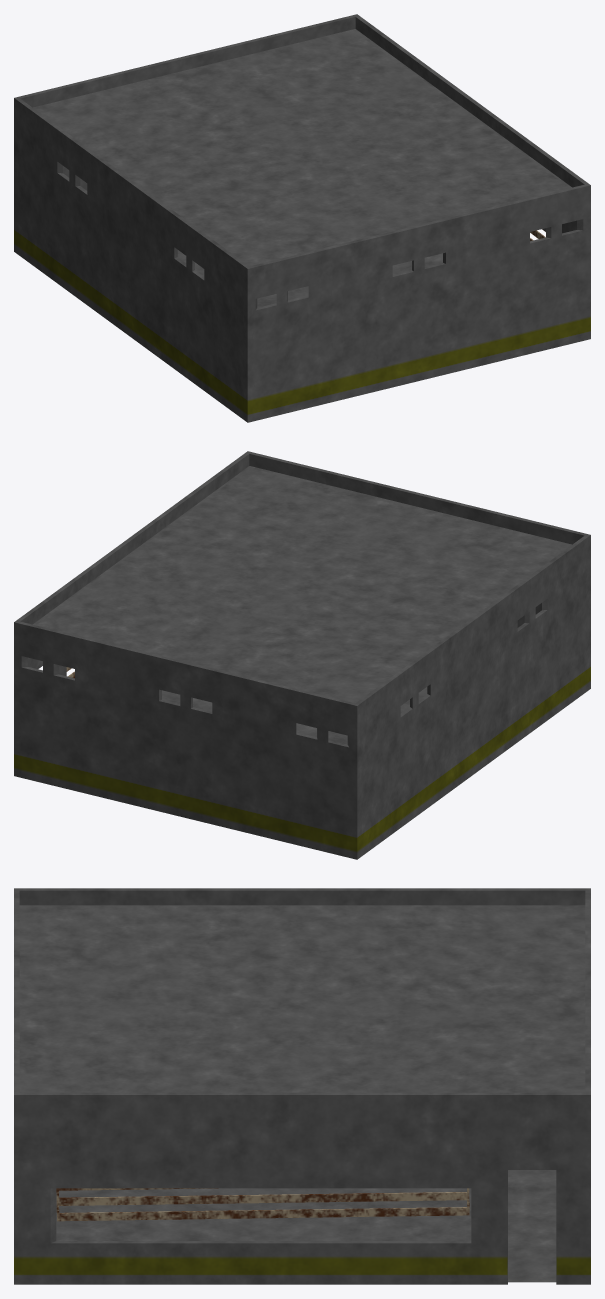
The model's file is BorderControll mainBuilding.obj.
3 renders of one model, top to bottom at view 1: azimuth 30°, elevation 25°; view 2: azimuth 150°, elevation 25°; view 3: azimuth 270°, elevation 25°, orthographic. The views are drawn at different scales.
Parts seen in each view (by area): view 1: BorderControll_mainBuilding; view 2: BorderControll_mainBuilding; view 3: BorderControll_mainBuilding, Lattice.
Part boxes in pixels (bbox=[...]): BorderControll_mainBuilding: bbox=[14, 14, 590, 422]; BorderControll_mainBuilding: bbox=[14, 451, 590, 859]; BorderControll_mainBuilding: bbox=[14, 888, 590, 1284]; Lattice: bbox=[56, 1188, 469, 1221].
Bounding box in the file's own units: 18.76 × 8.03 × 22.13.
